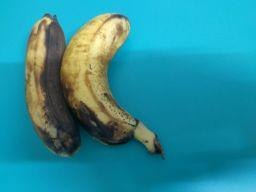banana: (59, 10, 167, 161), (21, 10, 83, 160)
